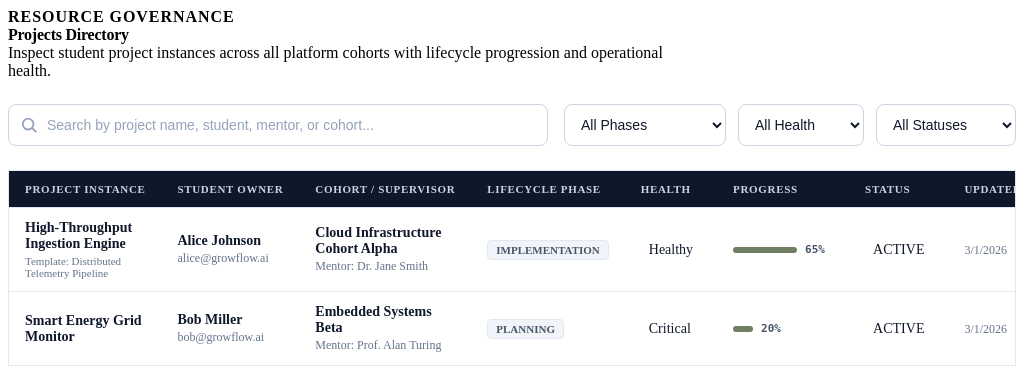
Test: GrowFlow Phase 7 Batch 7 Part 2 — Admin Governance Resources › AD08 — Projects Directory (/admin/projects) › filters projects by health and phase
Expected: the link "High-Throughput Ingestion Engine" is shown, [25,220,146,252]
# Filter by Health: CRITICAL
Select "Critical" in the dropdown named "Filter by health" at (801, 125), box [738,104,864,146]
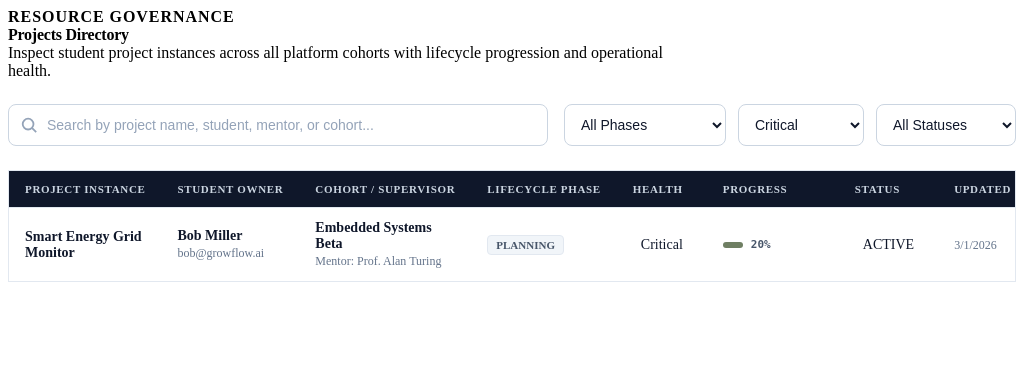
Expected: the link "Smart Energy Grid Monitor" is shown, [25,228,146,260]
Expected: the link "High-Throughput Ingestion Engine" is gone
